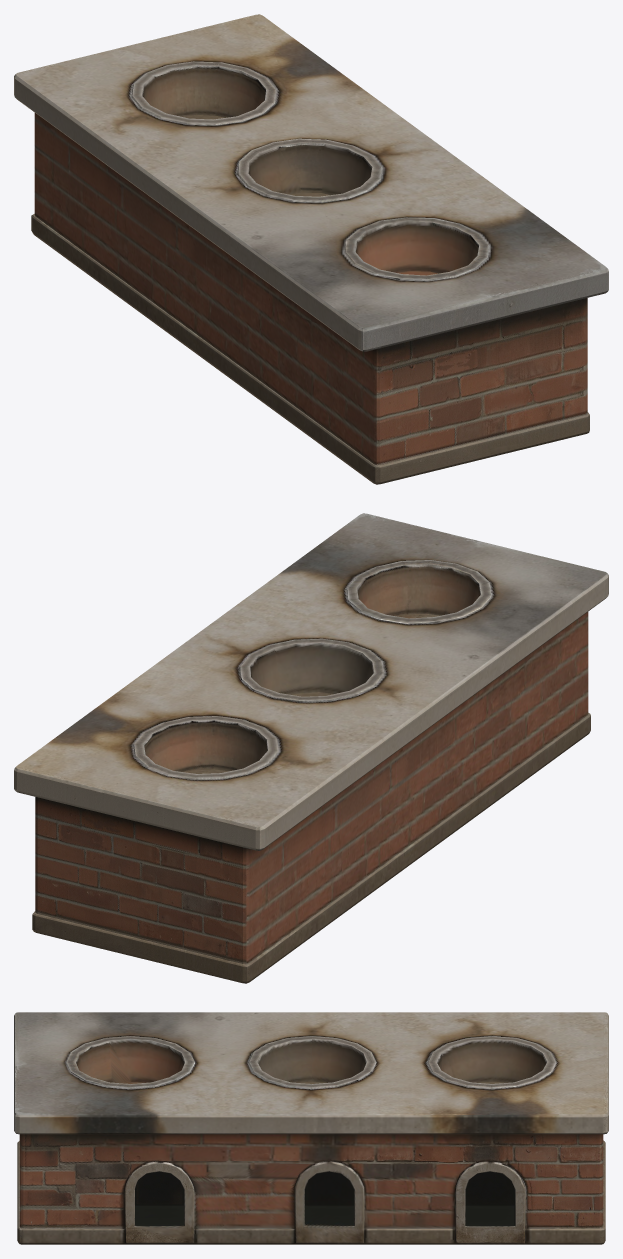
File: Stove01.FBX
The picture shows the model from 3 angles, top to bottom: view 1: azimuth 30°, elevation 25°; view 2: azimuth 150°, elevation 25°; view 3: azimuth 270°, elevation 25°; orthographic projection. The views are drawn at different scales.
Visible parts, largest first — view 1: stove01; view 2: stove01; view 3: stove01.
Part boxes in pixels (bbox=[...]): stove01: bbox=[14, 14, 608, 484]; stove01: bbox=[14, 513, 608, 983]; stove01: bbox=[14, 1012, 608, 1244].
Size of the model in its own units: 0.4113 by 0.2559 by 0.998.
